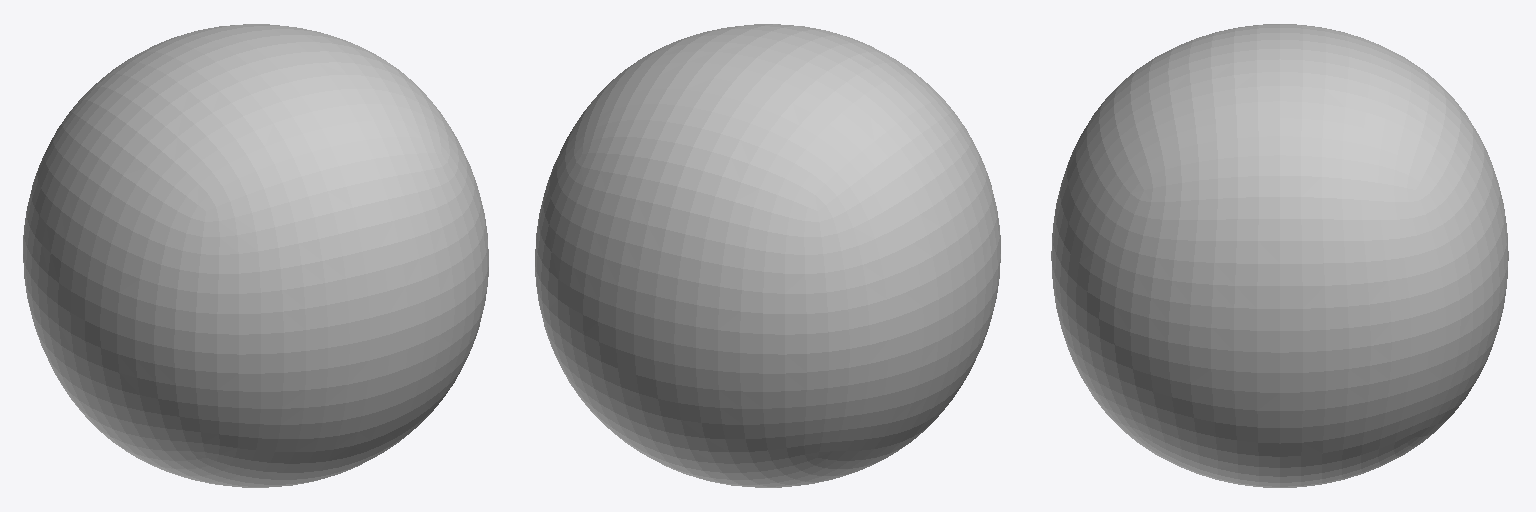
The model's file is cube_subdiv_4.obj.
3 renders of one model, left to right at view 1: azimuth 30°, elevation 25°; view 2: azimuth 150°, elevation 25°; view 3: azimuth 270°, elevation 25°, orthographic.
Parts seen in each view (by area): view 1: Cube_Cube.009; view 2: Cube_Cube.009; view 3: Cube_Cube.009.
Boxes of the visible parts, x1=… form: Cube_Cube.009: x1=23, y1=24, x2=488, y2=487; Cube_Cube.009: x1=535, y1=24, x2=1000, y2=487; Cube_Cube.009: x1=1051, y1=24, x2=1508, y2=487.
Bounding box in the file's own units: 1.68 × 1.68 × 1.68.